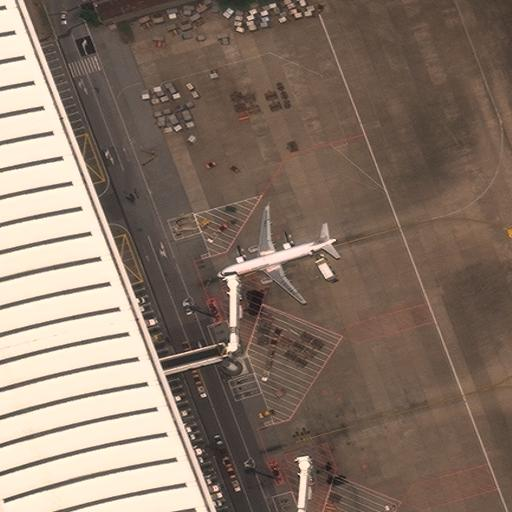Medium Civil Transport: (215, 204, 337, 304)
